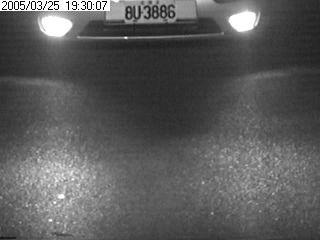plate: (124, 0, 179, 26)
